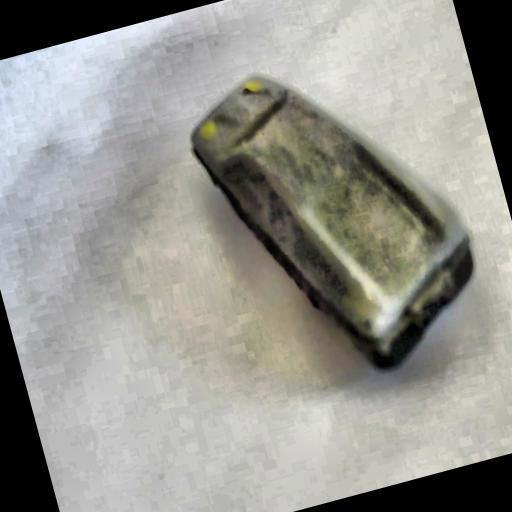normal_car: (162, 12, 512, 414)
